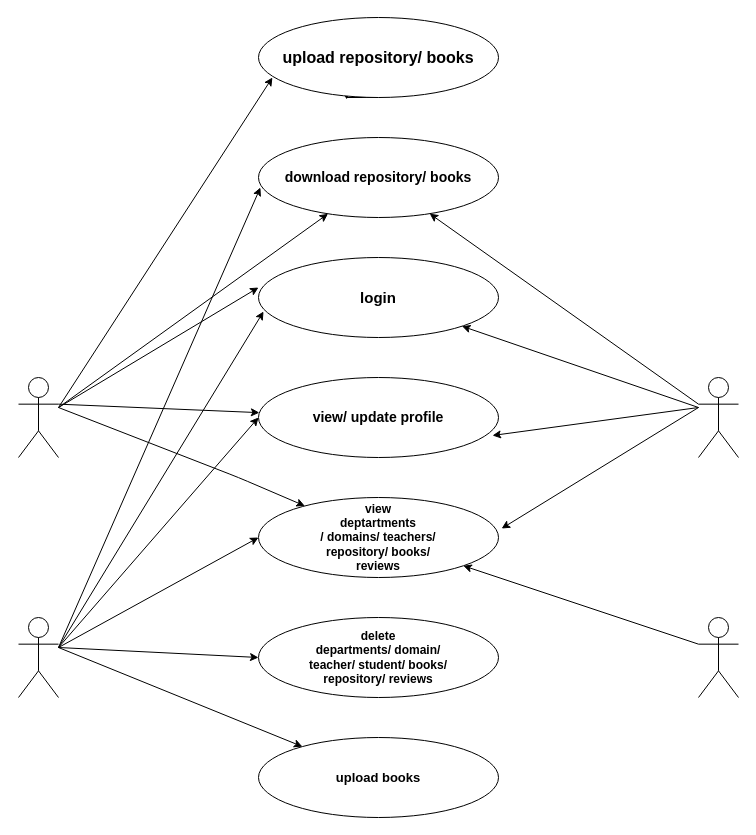
The diagram is 756 pixels wide and 835 high, and some of its shapes have lost their labels. The centre of each missing label's shape, as x and y in pixels:
"Admin" goes at point (38, 657).
"Guest" goes at point (718, 657).
"Student" goes at point (718, 417).
"Teacher" goes at point (38, 417).
